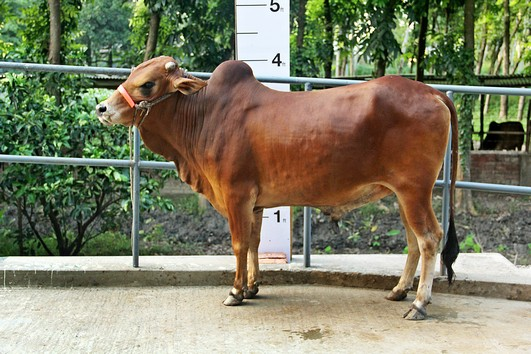cow: (88, 51, 469, 327)
